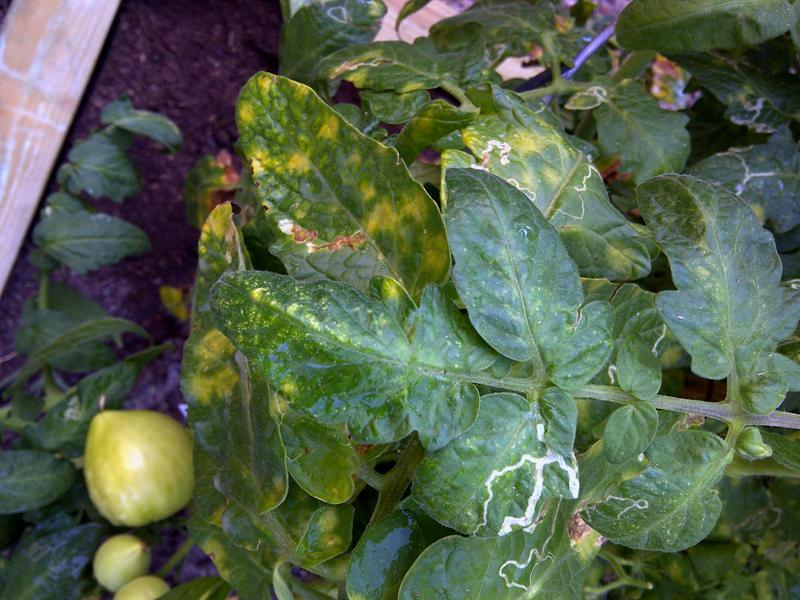Tomato mold leaf: (193, 268, 500, 454), (224, 66, 448, 318), (615, 143, 798, 401), (429, 160, 604, 373), (571, 420, 739, 562)
